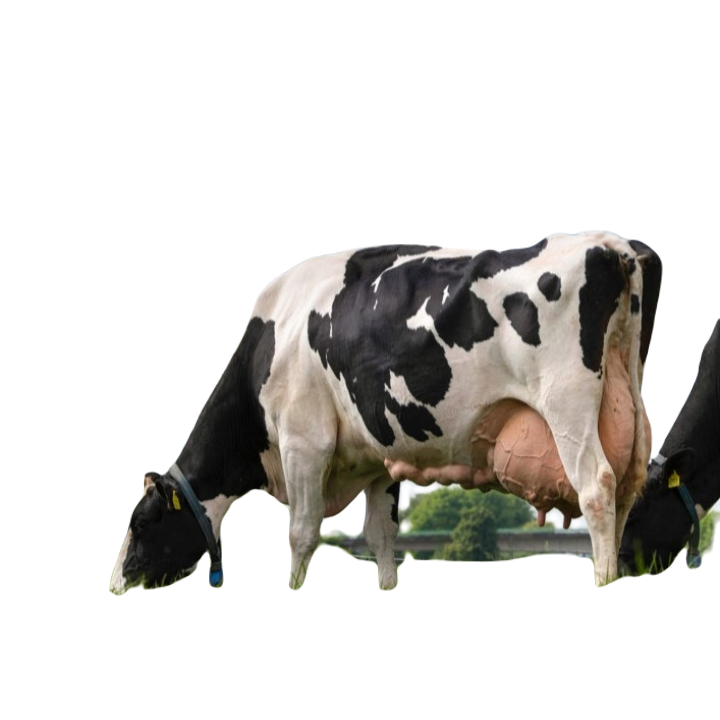Cow: (99, 228, 667, 590)
